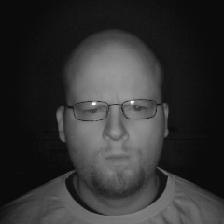sad: (49, 26, 175, 201)
